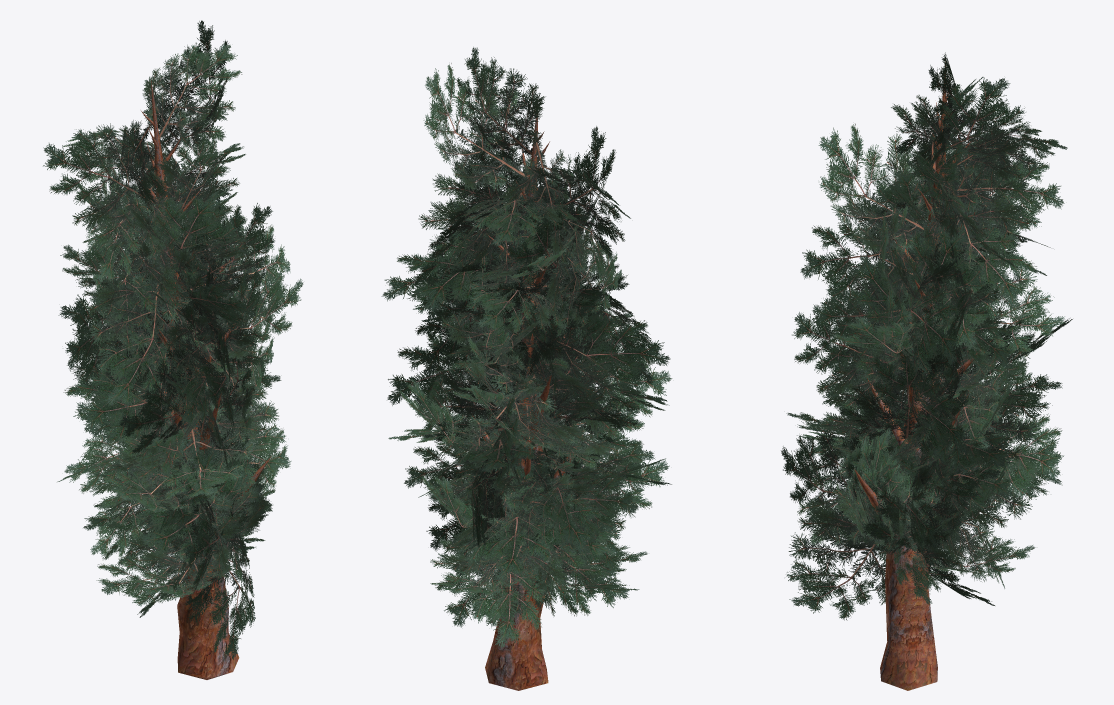
Rendered from first_LOD50.dae.
The picture shows the model from 3 angles, left to right: view 1: azimuth 30°, elevation 25°; view 2: azimuth 150°, elevation 25°; view 3: azimuth 270°, elevation 25°; orthographic projection. The views are drawn at different scales.
Parts seen in each view (by area): view 1: leaf21d, branches23d; view 2: leaf21d, branches23d; view 3: leaf21d, branches23d.
Boxes of the visible parts, x1,y1,x2,y2 form: leaf21d: (43, 20, 303, 660); branches23d: (122, 79, 271, 679); leaf21d: (381, 47, 672, 649); branches23d: (472, 96, 583, 690); leaf21d: (781, 52, 1072, 620); branches23d: (854, 61, 992, 690).
Bounding box in the file's own units: 5.13 × 5.52 × 11.23.
Materials: 2 (2 with a texture image).
